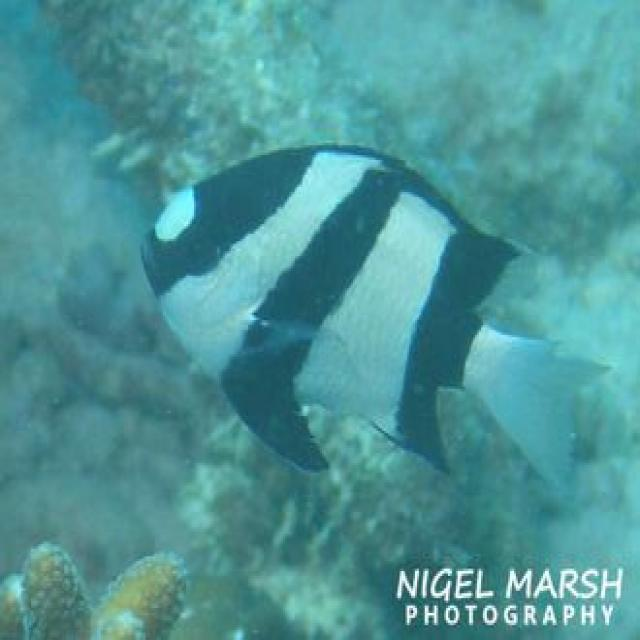Three_striped DasmselFish: (140, 142, 603, 502)
